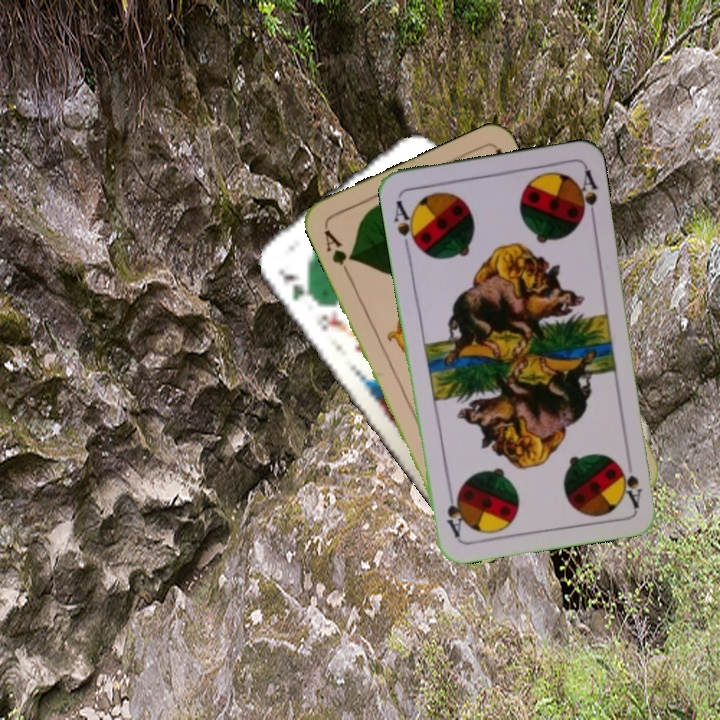GA: (320, 225, 356, 279)
GK: (274, 263, 319, 306)
SA: (390, 196, 422, 253), (618, 463, 645, 510)
